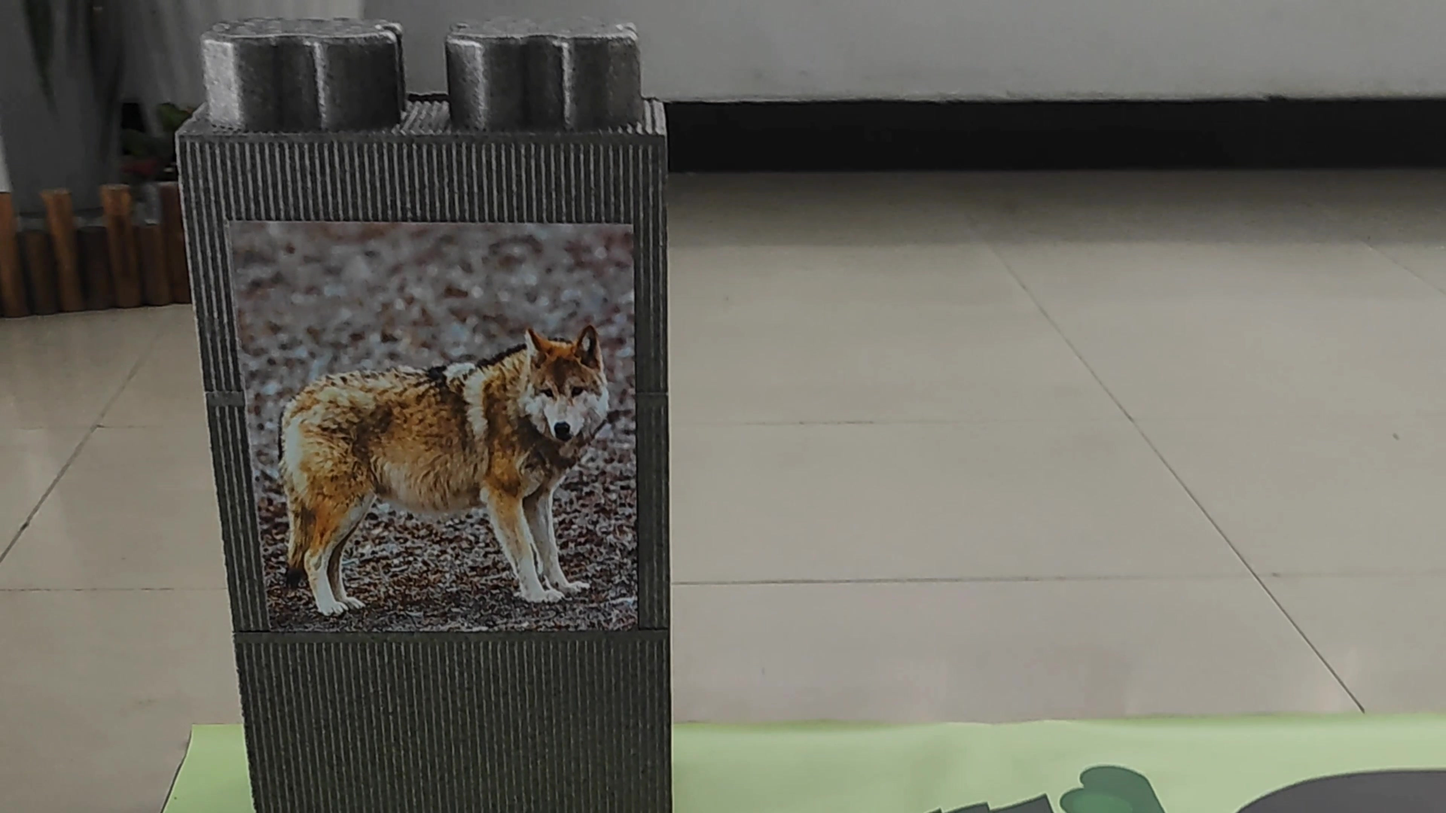wolf: (258, 281, 633, 611)
